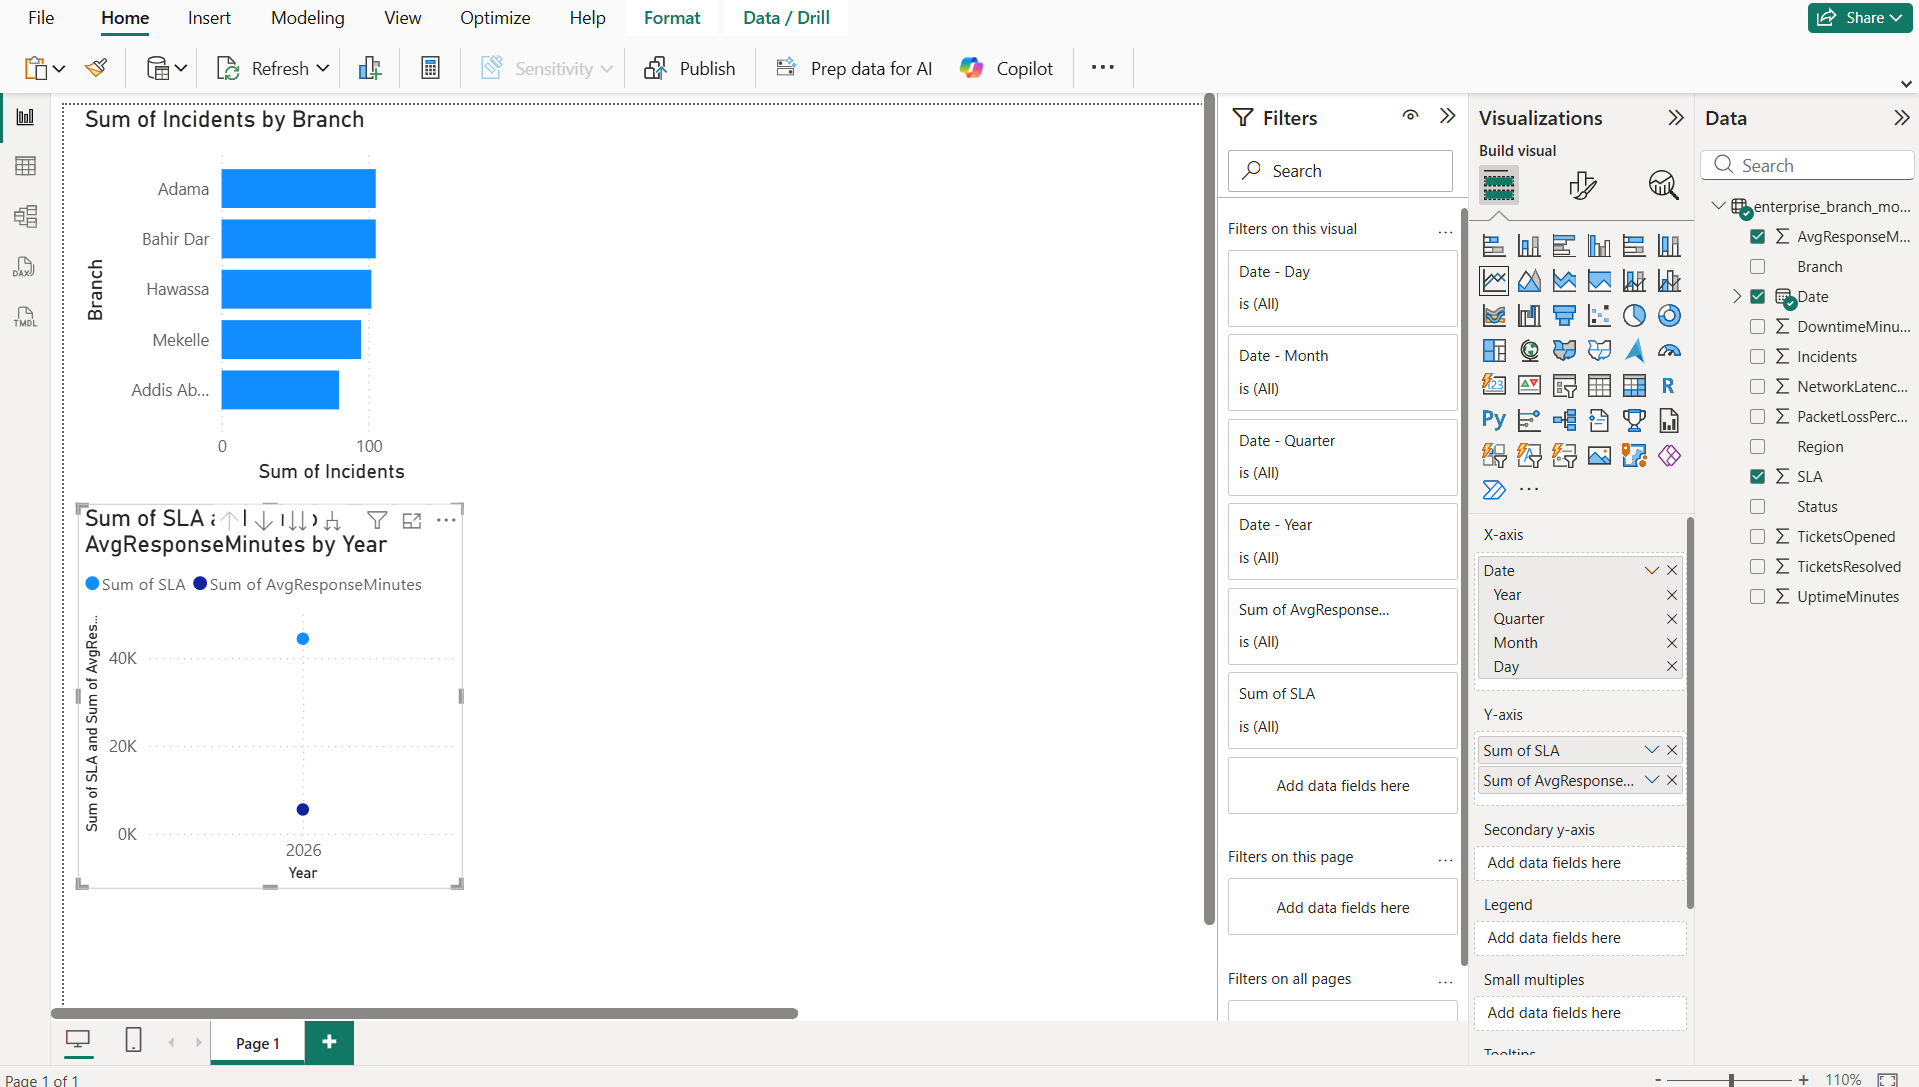

Layout of this report page (visuals, bound fields, positions):
{"tool":"powerbi","page":{"name":"Page 1","canvas":[1280,720],"ordinal":0},"visuals":[{"type":"clusteredBarChart","fields":{"Category":["enterprise_branch_monitoring_dataset.Branch"],"Y":["Sum(enterprise_branch_monitoring_dataset.Incidents)"]},"box":[10,0,280,280],"z":0},{"type":"lineChart","fields":{"Y":["Sum(enterprise_branch_monitoring_dataset.SLA)","Sum(enterprise_branch_monitoring_dataset.AvgResponseMinutes)"],"Category":["enterprise_branch_monitoring_dataset.Date.Variation.Date Hierarchy.Year","enterprise_branch_monitoring_dataset.Date.Variation.Date Hierarchy.Quarter","enterprise_branch_monitoring_dataset.Date.Variation.Date Hierarchy.Month","enterprise_branch_monitoring_dataset.Date.Variation.Date Hierarchy.Day"]},"box":[10,290,280,280],"z":1}]}

Visuals, with their boxes on the page's 1280x720 design canvas (x1, y1, x2, y2). These are canvas units, not pixel positions in the 1919x1087 screenshot, which may show the page scaled, cropped or inside an application window:
clusteredBarChart - enterprise_branch_monitoring_dataset.Branch x Sum(enterprise_branch_monitoring_dataset.Incidents): l=10, t=0, r=290, b=280
lineChart - Sum(enterprise_branch_monitoring_dataset.SLA) x Sum(enterprise_branch_monitoring_dataset.AvgResponseMinutes): l=10, t=290, r=290, b=570
